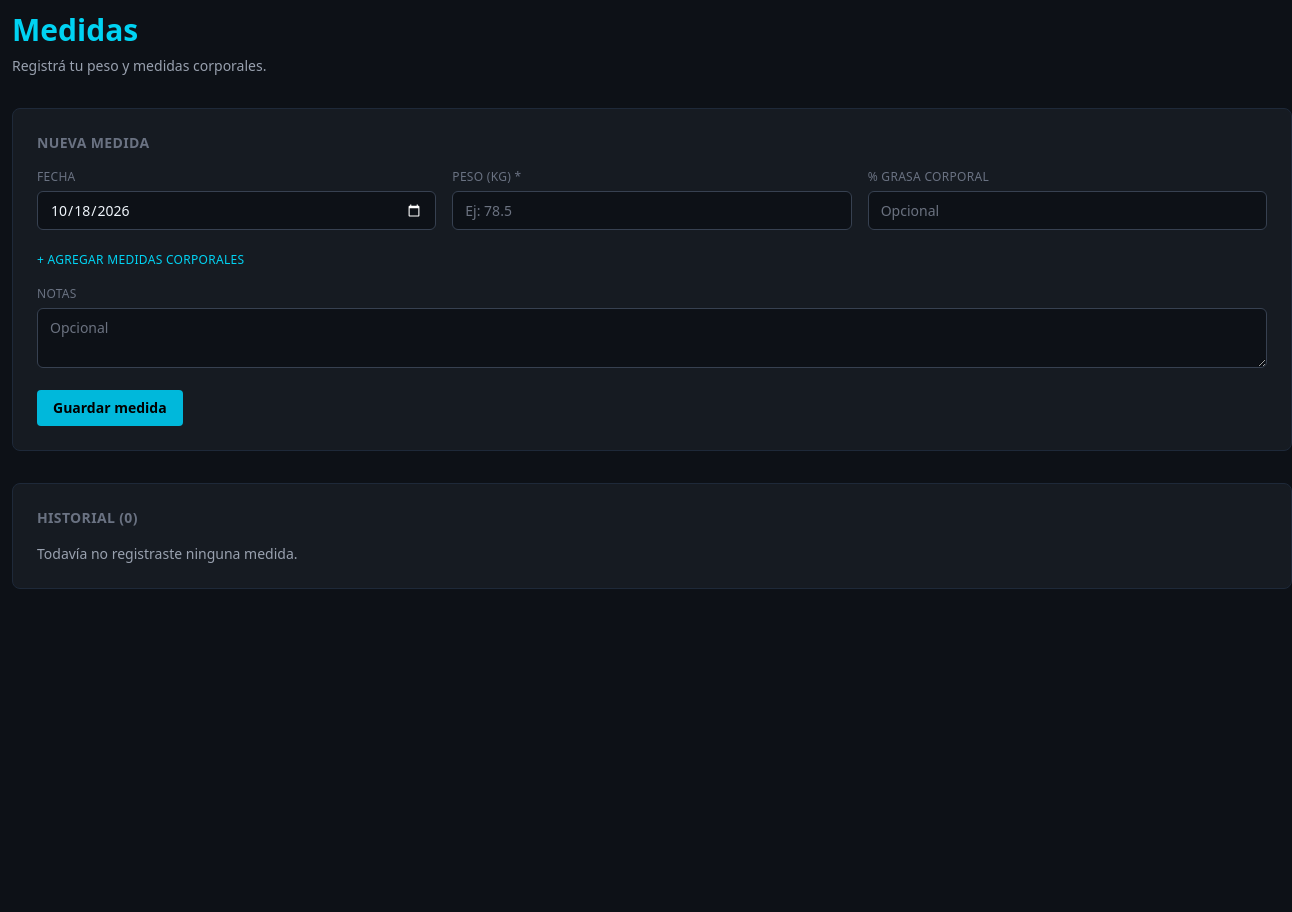
Test: Measurements › muestra el error 409 cuando ya hay una medida esa semana
The image size is (1292, 912).
Type "80" into the number field with placeholder "Ej: 78.5".
click(652, 210); type("80")  # box [452,191,852,230]
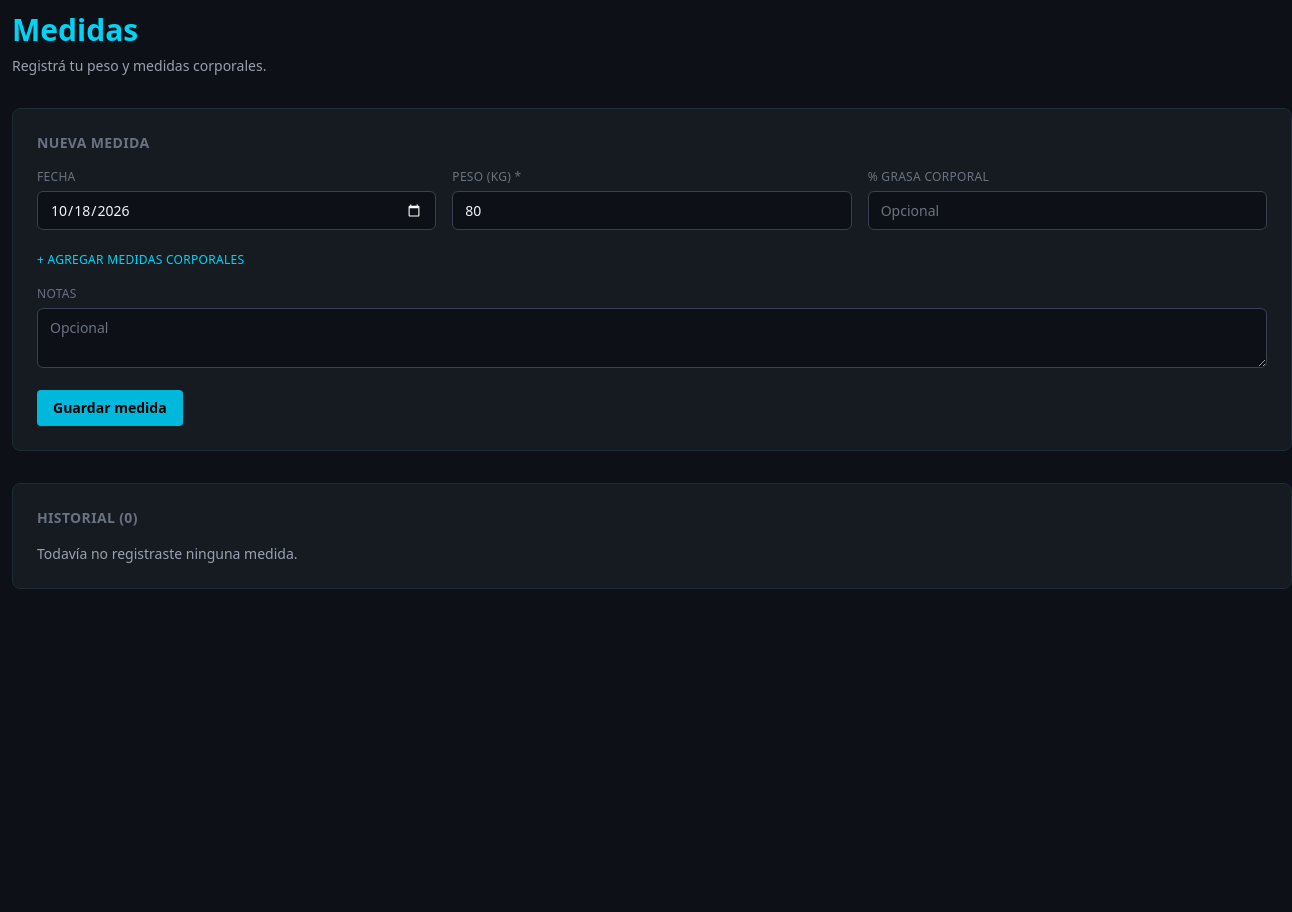
Click the button "Guardar medida".
click(110, 408)  # box [37,390,183,426]
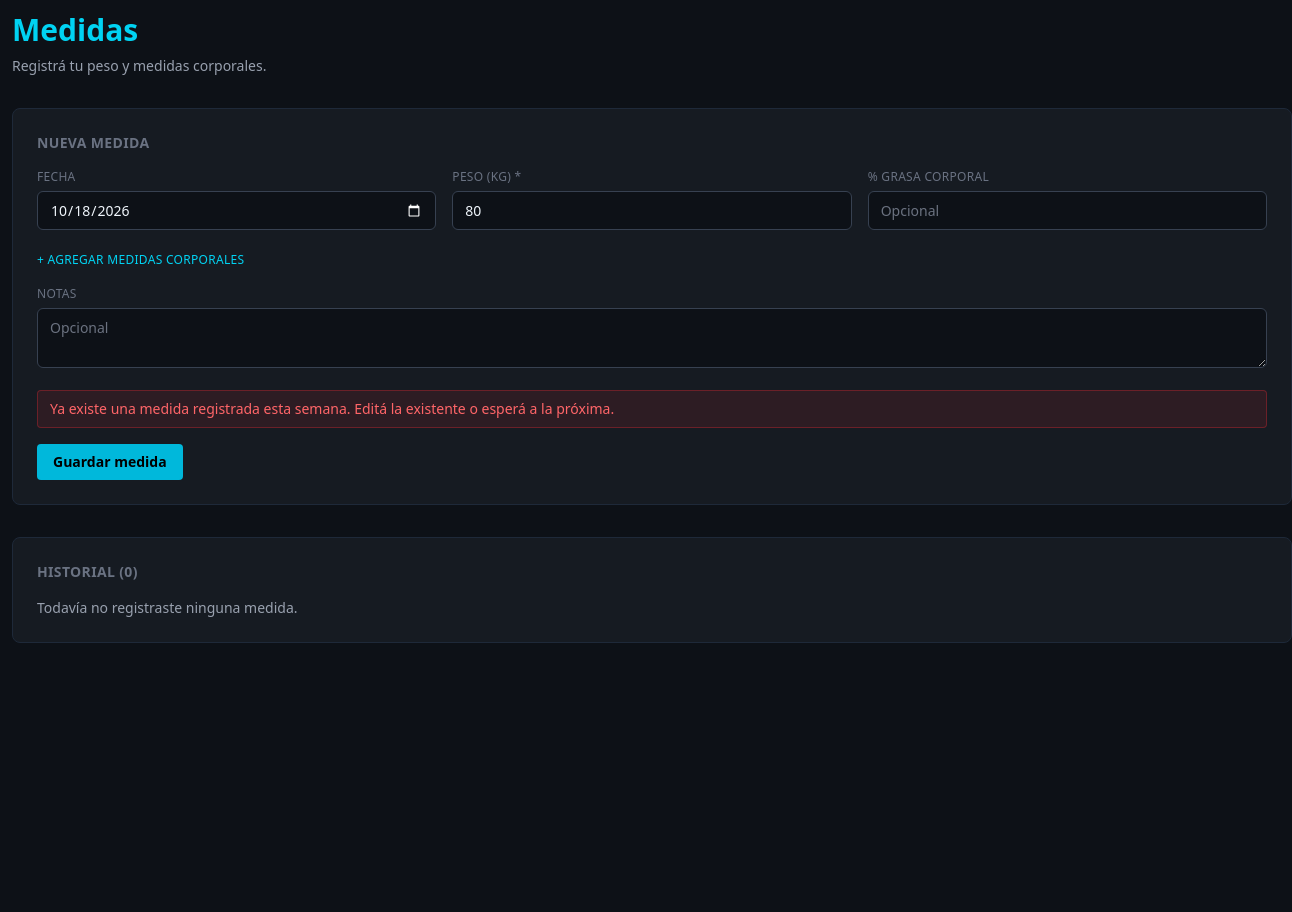
Expected: the text "Ya existe una medida registrada esta semana" is shown, [50,399,614,418]
